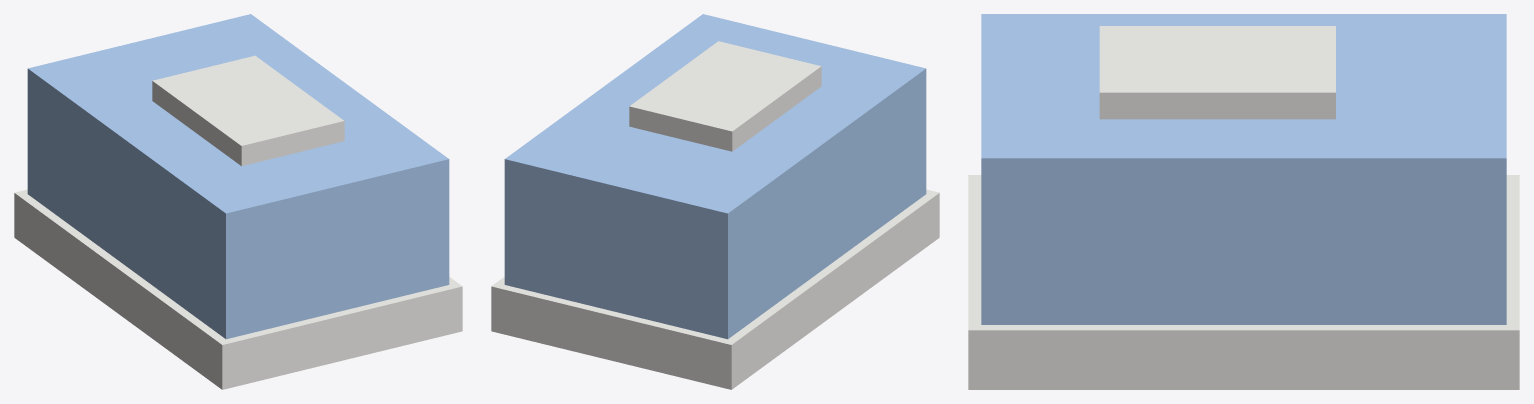
The model's file is chunky_sneaker.glb.
3 views of the same model, side by side, from view 1: azimuth 30°, elevation 25°; view 2: azimuth 150°, elevation 25°; view 3: azimuth 270°, elevation 25° (orthographic). The views are drawn at different scales.
Parts seen in each view (by area): view 1: Chunky Sneaker; view 2: Chunky Sneaker; view 3: Chunky Sneaker.
Boxes of the visible parts, x1,y1,x2,y2 form: Chunky Sneaker: [14, 14, 462, 389]; Chunky Sneaker: [491, 14, 939, 389]; Chunky Sneaker: [968, 14, 1519, 389].
Bounding box in the file's own units: 0.28 × 0.2125 × 0.42.
